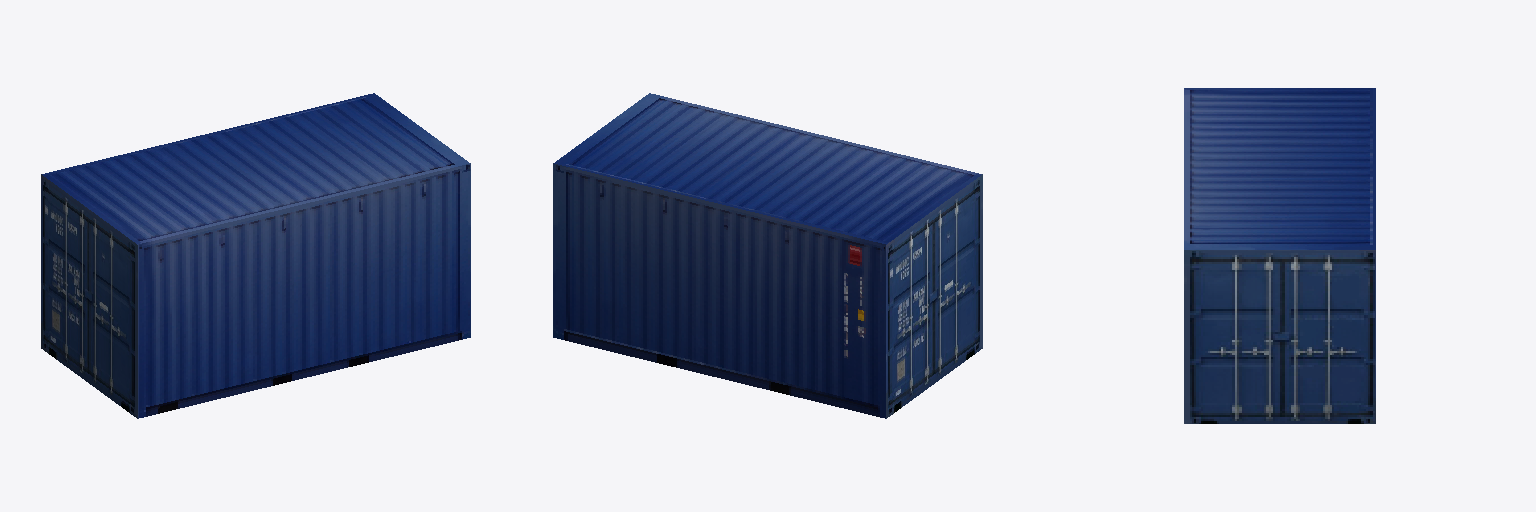
3 views of the same model, side by side, from view 1: azimuth 30°, elevation 25°; view 2: azimuth 150°, elevation 25°; view 3: azimuth 270°, elevation 25° (orthographic).
Parts seen in each view (by area): view 1: Cube; view 2: Cube; view 3: Cube.
Boxes of the visible parts, x1,y1,x2,y2 form: Cube: [41, 93, 470, 418]; Cube: [553, 93, 982, 418]; Cube: [1184, 88, 1375, 423].
Bounding box in the file's own units: 4 × 2 × 2.
Materials: 1 (1 with a texture image).